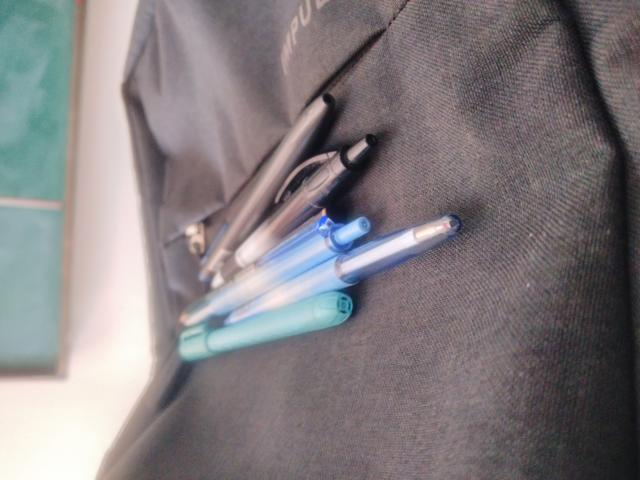PEN: (203, 196, 401, 396), (102, 165, 184, 376)
